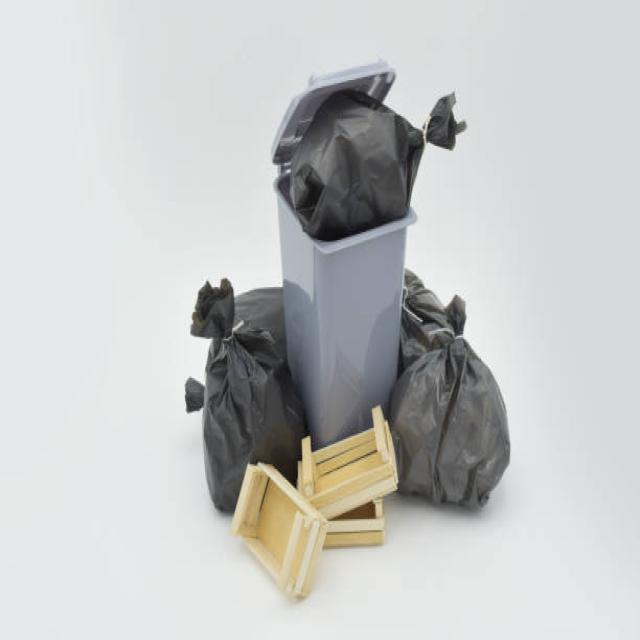trash: (191, 293, 292, 463), (401, 338, 503, 498), (301, 121, 410, 216)
